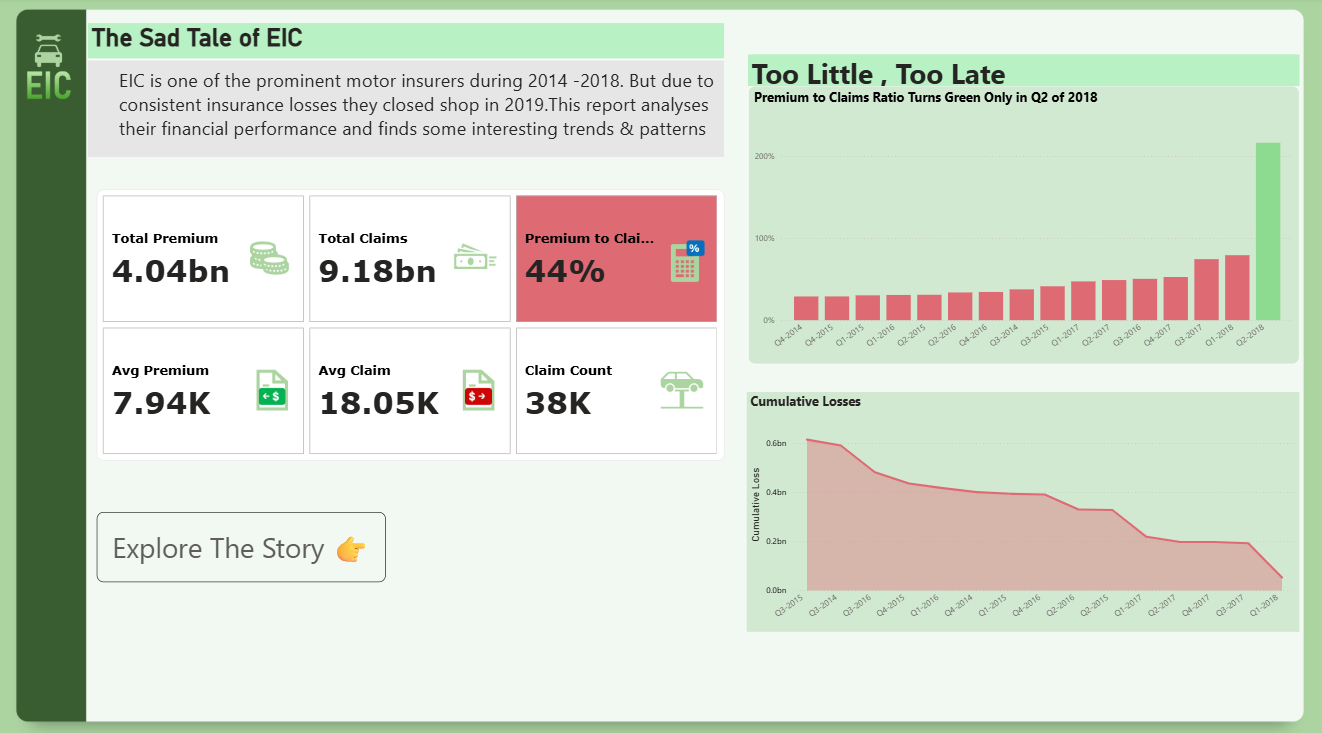

This screenshot's page, from the dashboard's own definition file:
{"tool":"powerbi","page":{"name":"Welcome","canvas":[1918,1080],"ordinal":0},"visuals":[{"type":"textbox","title":"The  Sad Tale of EIC","box":[130.3,38,921.1,193.6],"z":0},{"type":"clusteredColumnChart","title":"Premium to Claims Ratio Turns Green Only in Q2 of 2018","fields":{"Category":["Calendar.QY"],"Y":["_Measures.Premium_to_Claim_Ratio"]},"box":[1086.2,128.6,798.1,403.6],"z":0,"group":"g1"},{"type":"textbox","title":"Too Little , Too Late ","box":[1086.2,83.4,798.1,45.2],"z":1000,"group":"g1"},{"type":"cardVisual","fields":{"Data":["_Measures.Total_Premium","_Measures.Total_Claims","_Measures.Premium_to_Claim_Ratio","_Measures.Avg_Premium","_Measures.Avg_Claim2","_Measures.Claim_Count"]},"box":[143,278.7,908.4,392.7],"z":1000},{"type":"group","id":"g1","title":"Group 1","box":[1086.2,83.4,798.5,448.2],"z":2000},{"type":"areaChart","title":"Cumulative Losses","fields":{"Category":["Calendar.QY"],"Y":["_Measures.CumulativeLoss"]},"box":[1083.6,571.6,799.9,347.5],"z":3000},{"type":"actionButton","box":[0,38,99.5,1.8],"z":4000},{"type":"actionButton","box":[143,745.6,418,101.3],"z":5000},{"type":"image","box":[16.3,7.2,114,199.1],"z":6000}]}

Visuals, with their boxes in screenshot pixels (x1, y1, x2, y2), scaled from the page's 1918x1080 canvas onto the 1322x733 screenshot:
"The  Sad Tale of EIC" textbox: bbox(90, 26, 725, 157)
"Premium to Claims Ratio Turns Green Only in Q2 of 2018" clusteredColumnChart: bbox(749, 87, 1299, 361)
"Too Little , Too Late " textbox: bbox(749, 57, 1299, 87)
cardVisual - _Measures.Total_Premium x _Measures.Total_Claims: bbox(99, 189, 725, 456)
"Group 1" group: bbox(749, 57, 1299, 361)
"Cumulative Losses" areaChart: bbox(747, 388, 1298, 624)
actionButton: bbox(0, 26, 69, 27)
actionButton: bbox(99, 506, 387, 575)
image: bbox(11, 5, 90, 140)
